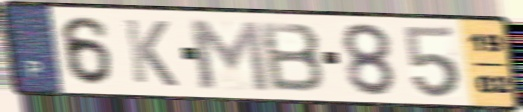5: (403, 25, 463, 99)
6: (57, 14, 115, 88)
8: (338, 21, 398, 98)
B: (256, 19, 329, 94)
K: (121, 16, 181, 90)
M: (183, 16, 273, 94)
